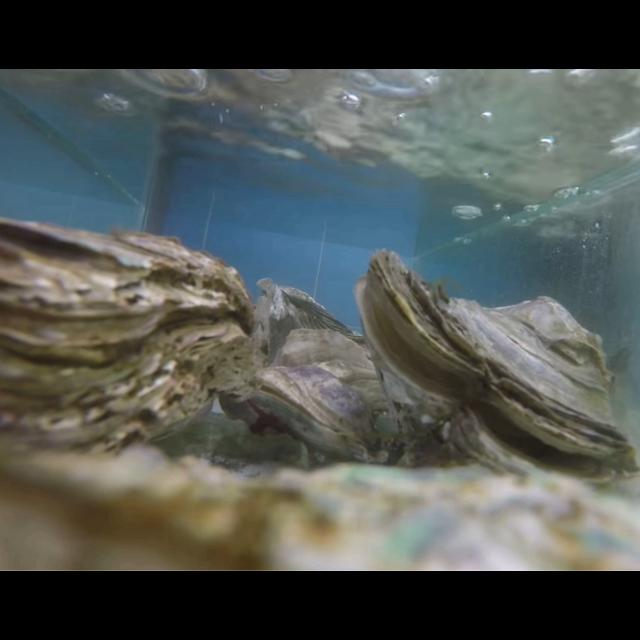Oyster-Closed: (1, 219, 256, 483), (247, 330, 411, 468)
Oyster-Indeterminate: (0, 447, 640, 571), (254, 278, 370, 369)
Oyster-Open: (354, 248, 640, 496)
